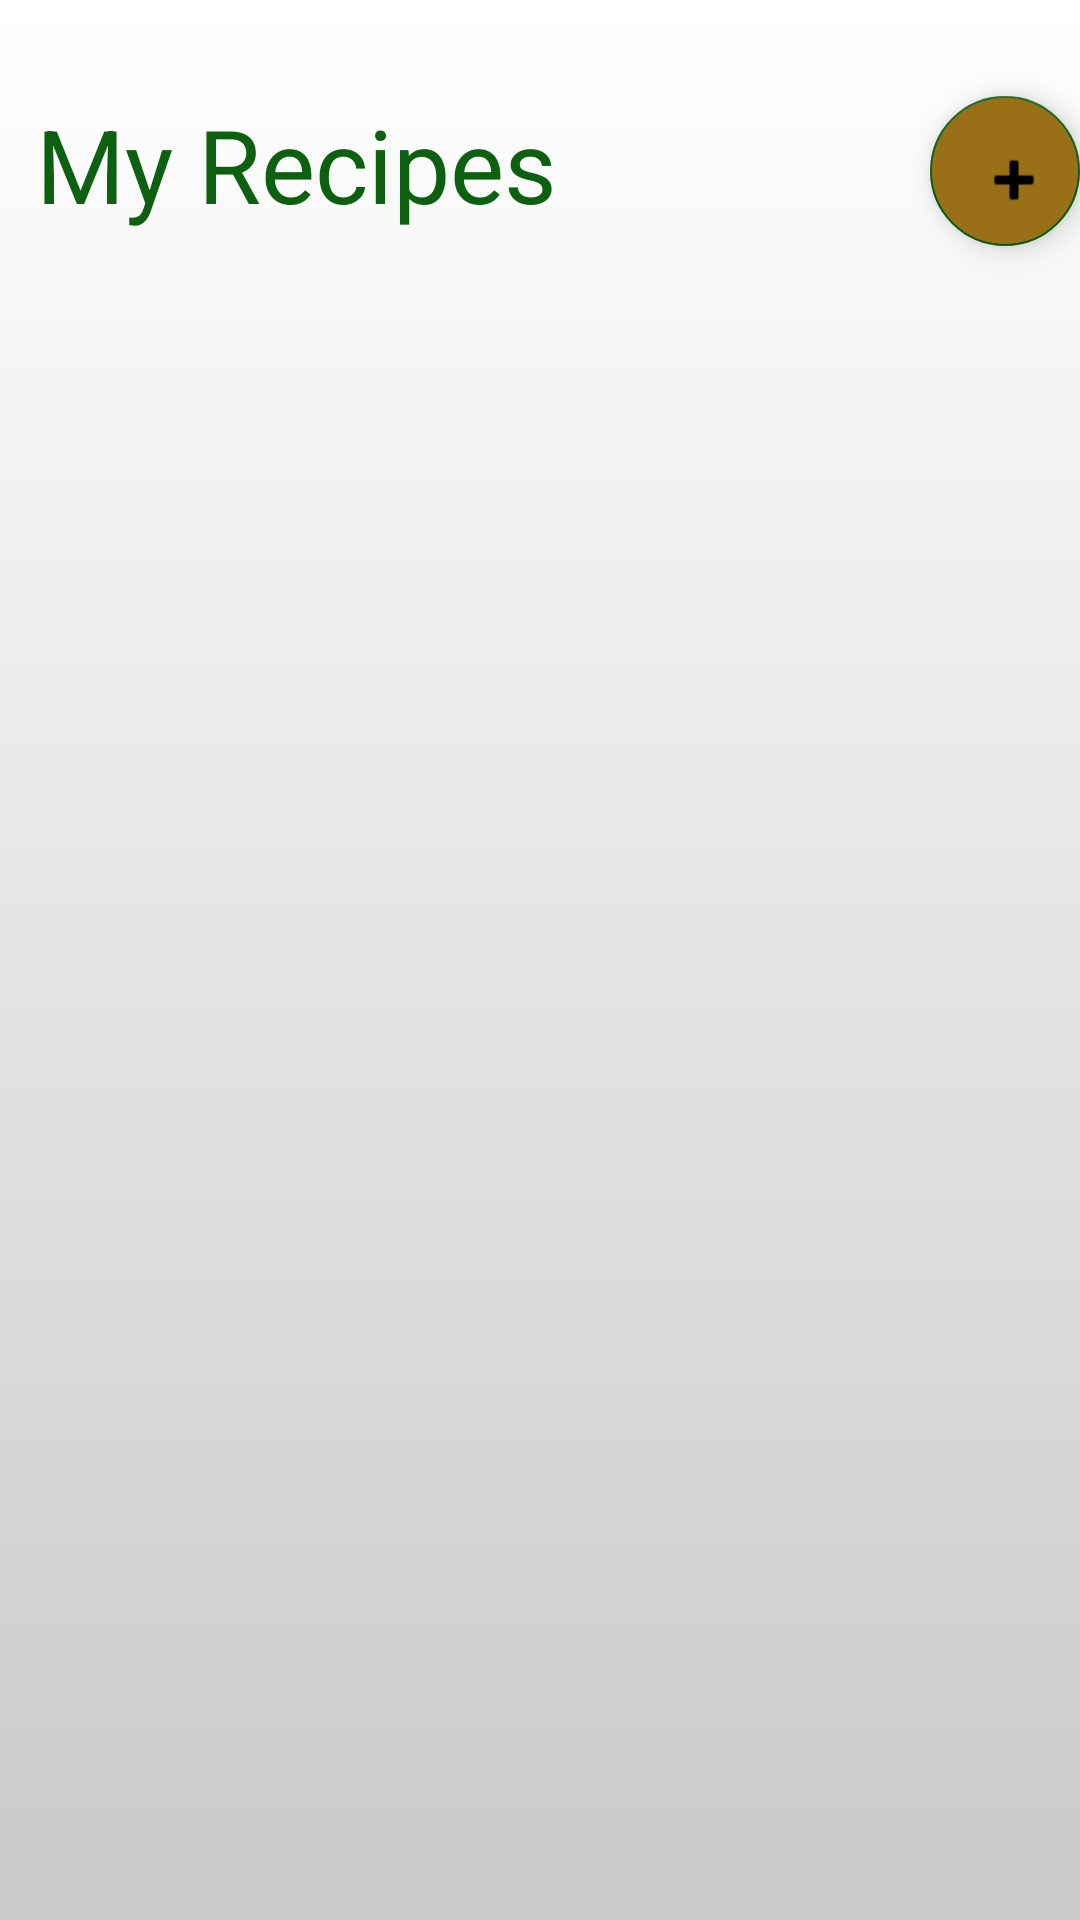

Screen size 1080 × 1920. Icon name, then its center in pixels as point (x, y):
Add a new shopping list item: point (1005, 171)
